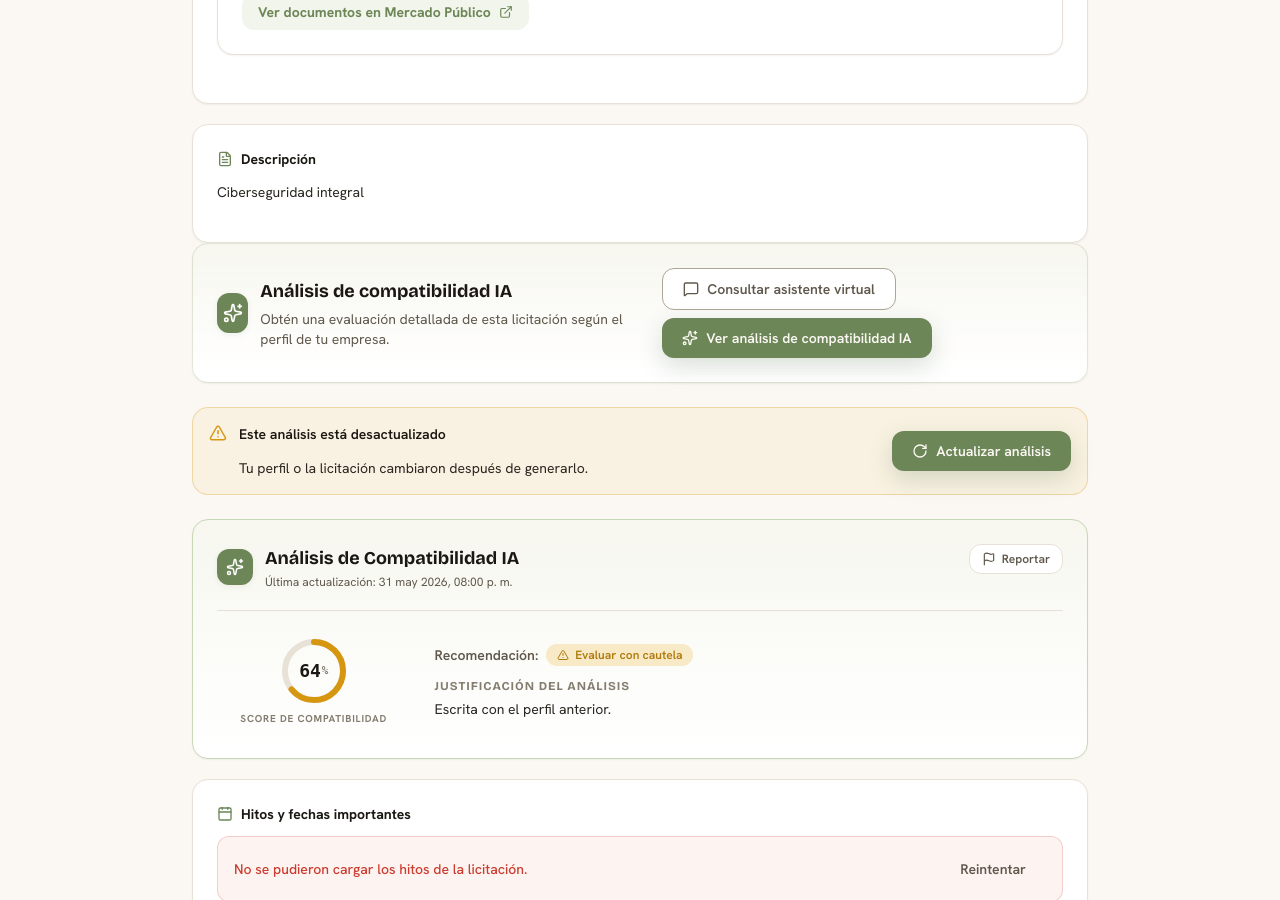
Test case: TenderDetailView: compatibilidad a pedido › avisa que el análisis quedó desactualizado y permite actualizarlo
(page scrolled)
Expected: the text "Este análisis está desactualizado" is shown, [239, 425, 446, 443]
Click the button "Actualizar análisis". click: (982, 451)
box: [892, 431, 1071, 471]
(page scrolled)
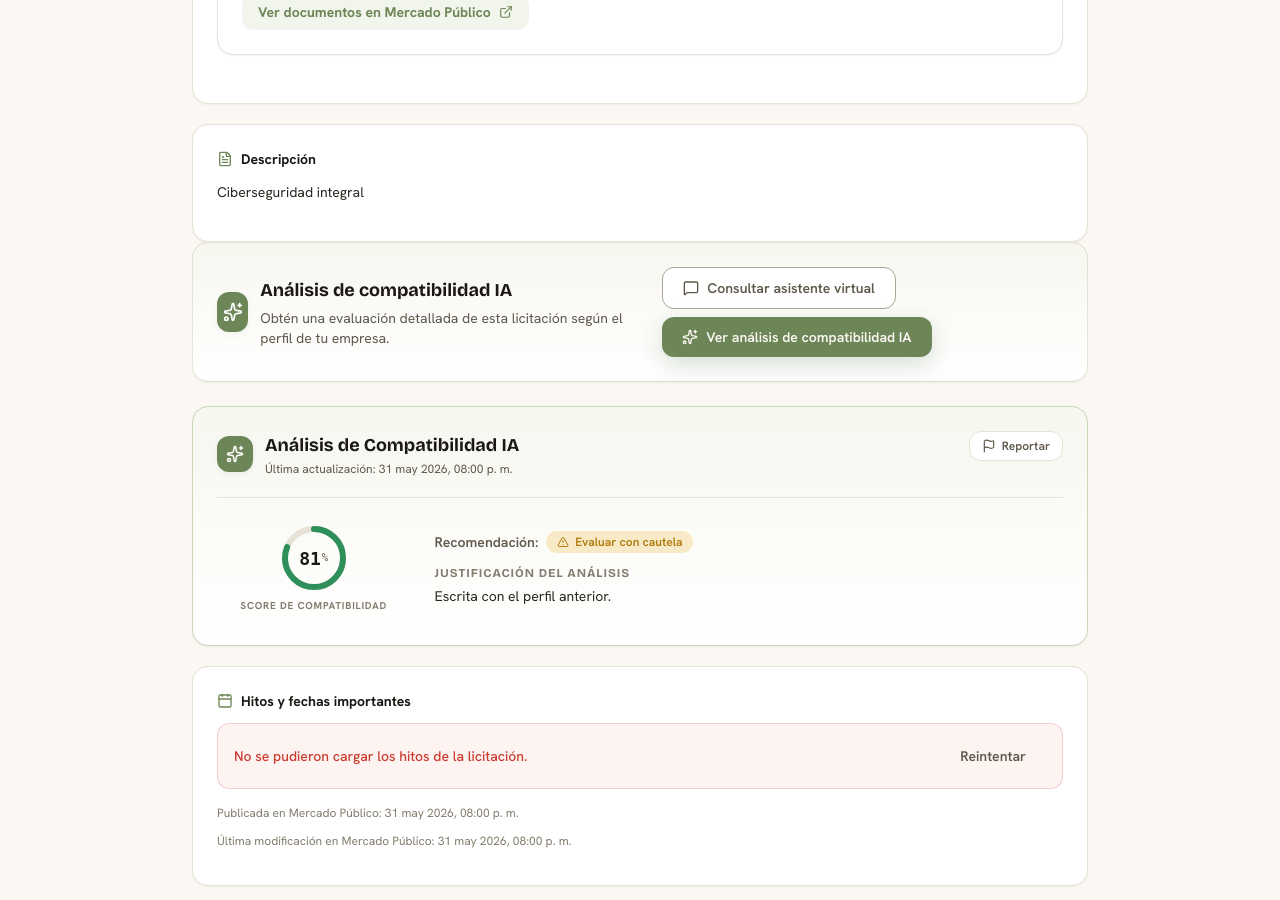
Expected: the number of pictures "Compatibilidad 81%" is 2
